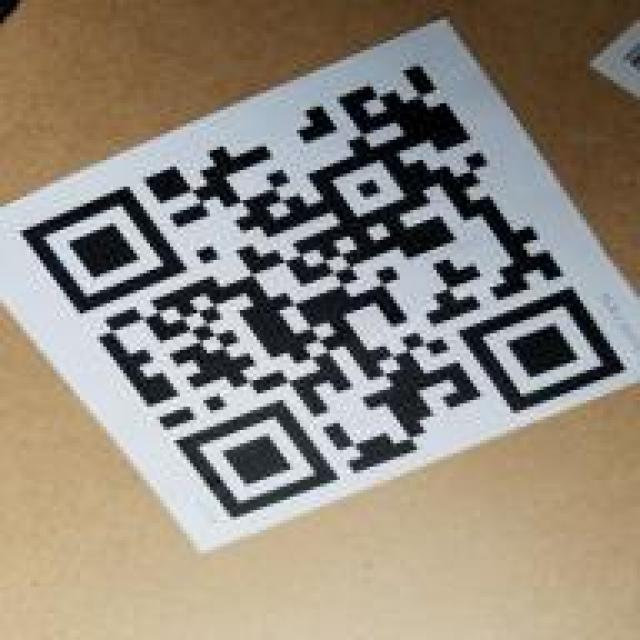qr_code: (20, 67, 625, 518)
